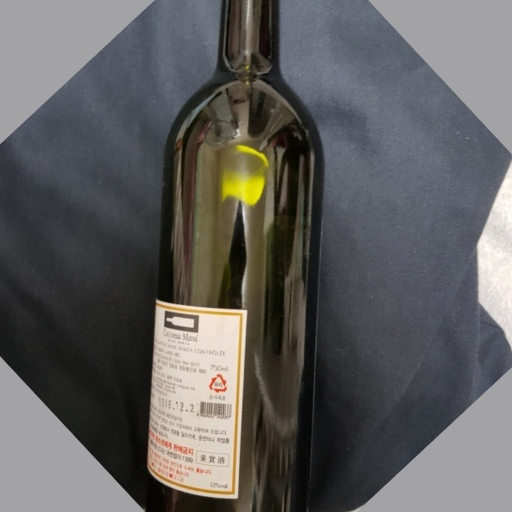Glass_2: (150, 1, 330, 512)
